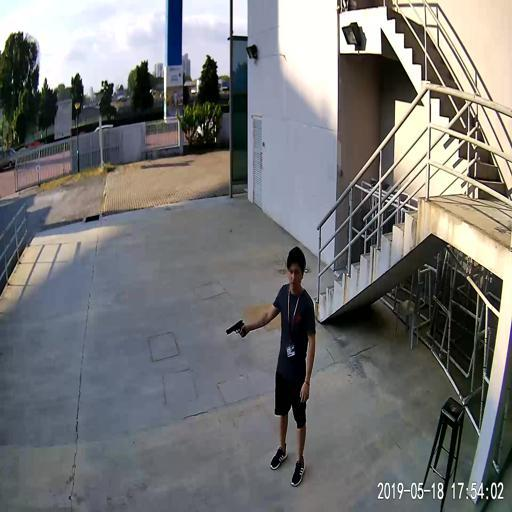Handgun: (224, 315, 245, 337)
